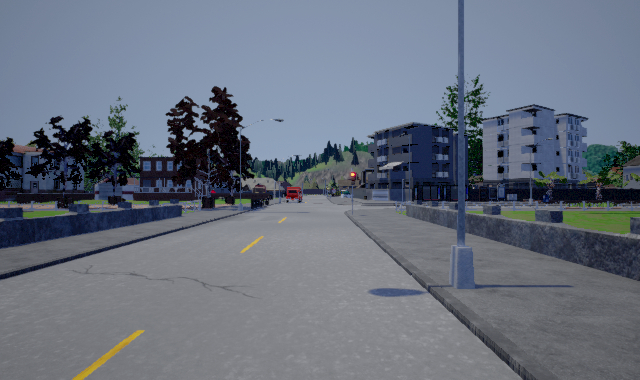traffic_light: (350, 172, 355, 184)
vehicle: (286, 186, 303, 203)
